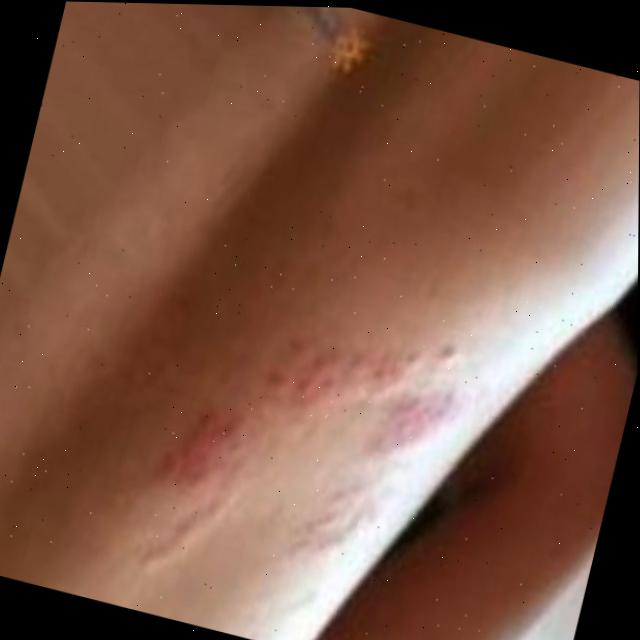Shingles: (113, 264, 478, 640)
